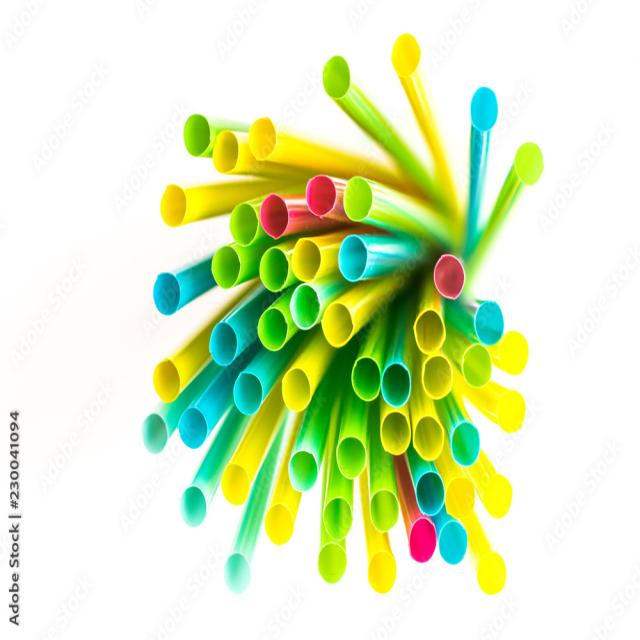plastic: (313, 36, 387, 146)
